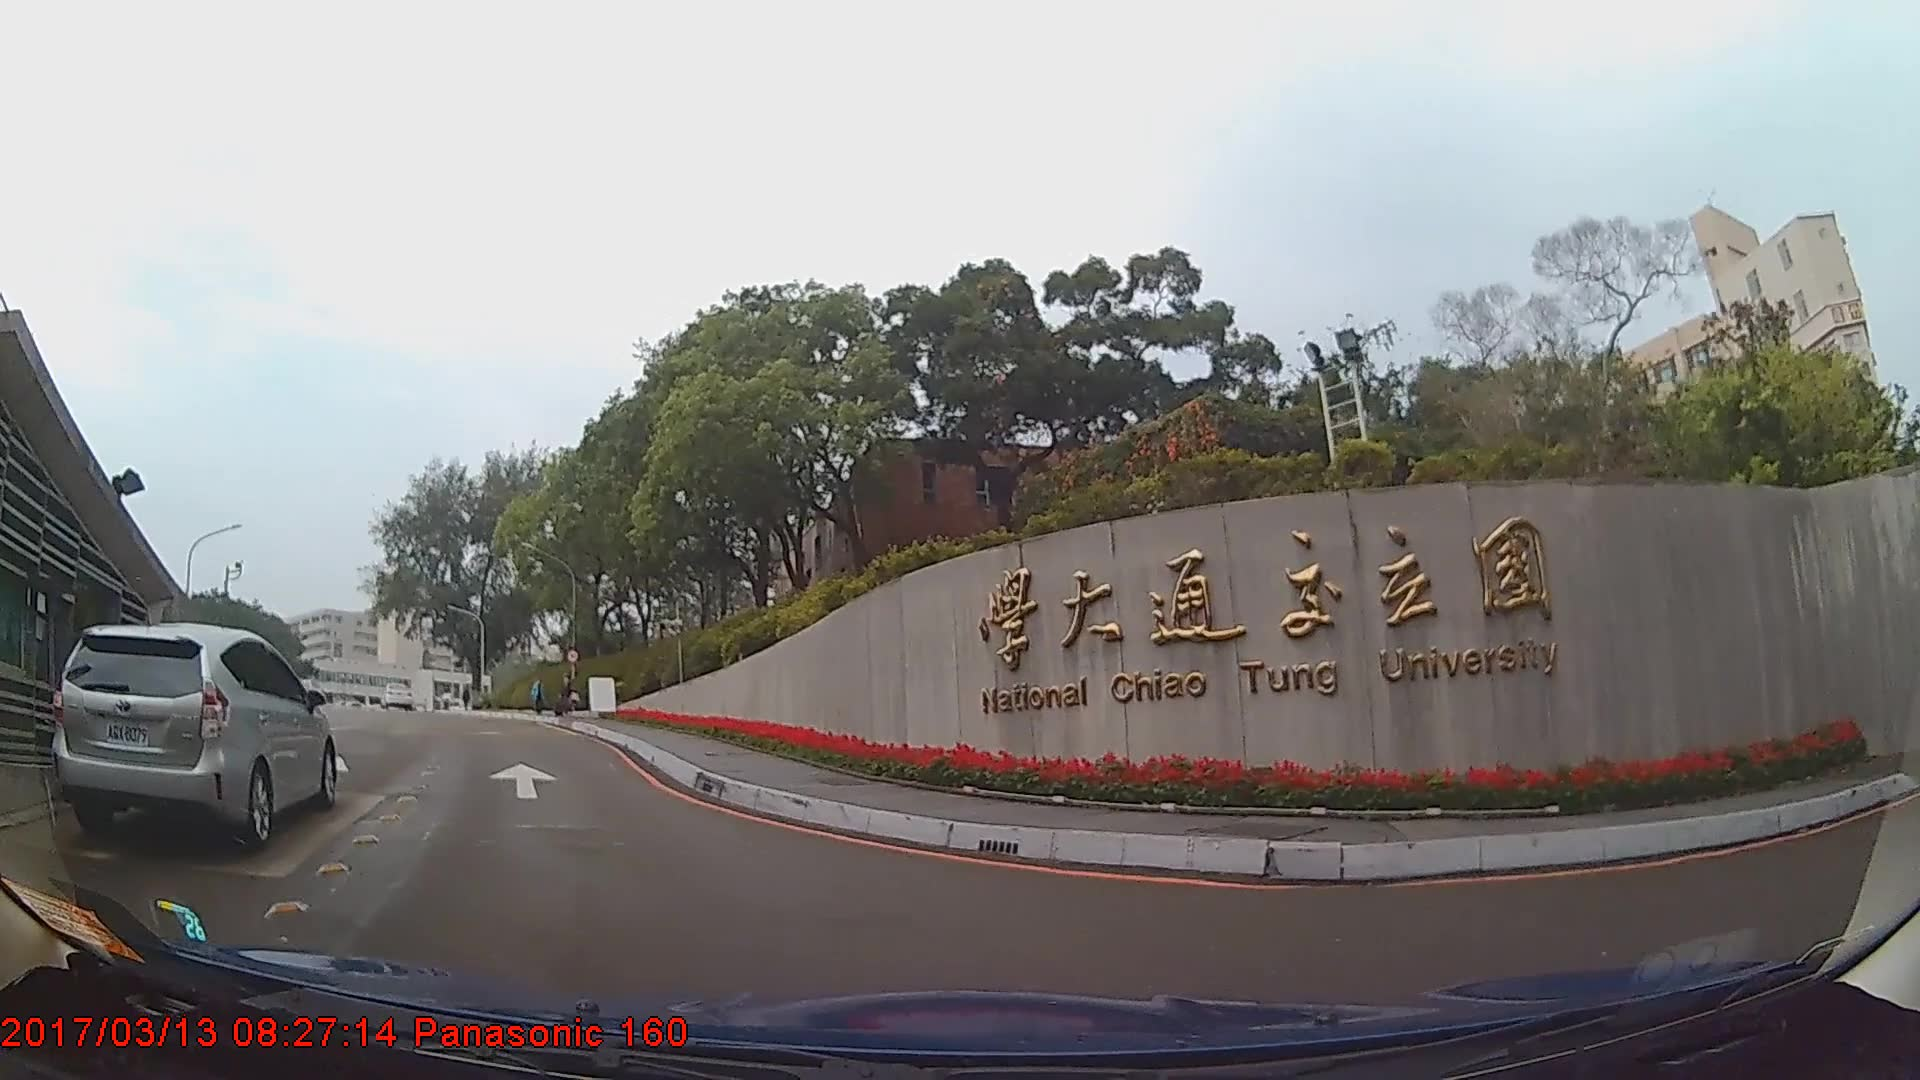vehicle: (49, 618, 338, 847), (378, 679, 411, 707)
